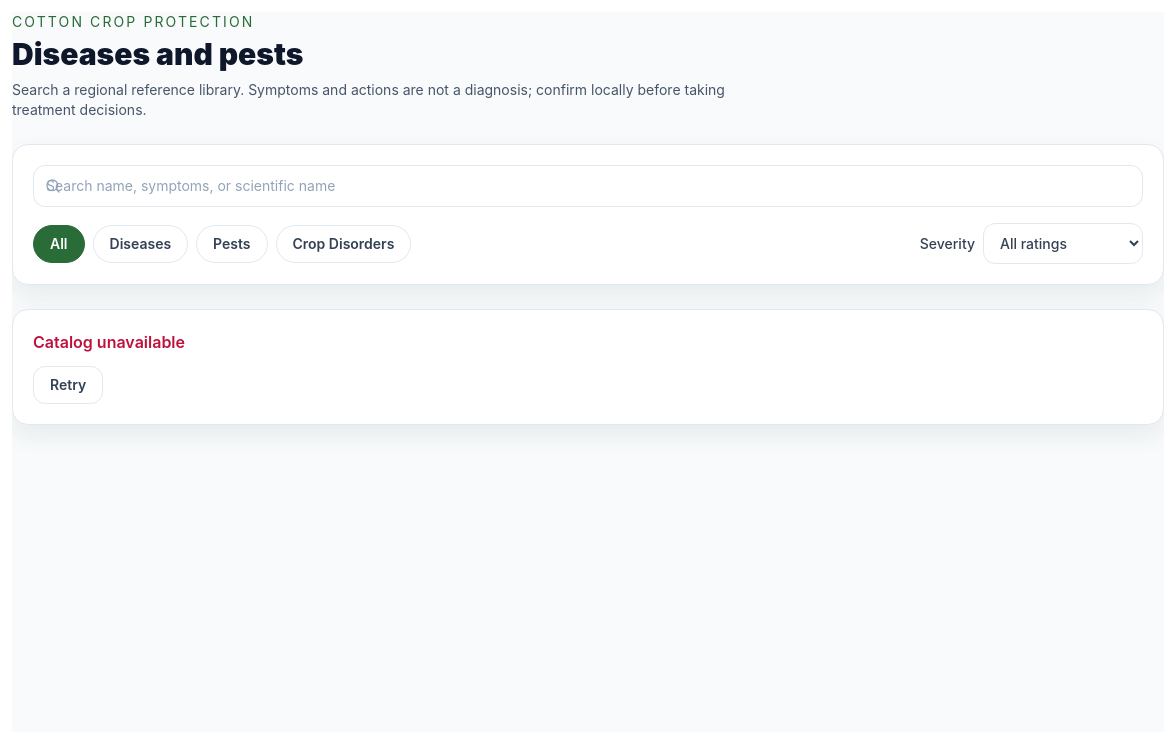
Scenario: CottonIssueGuide › shows an error state on API failure and recovers on retry
Check: the message shows "Catalog unavailable", box left=33, top=332, right=185, bottom=352
Step 1. Click the button "Retry" → (68, 385), box left=33, top=366, right=103, bottom=404
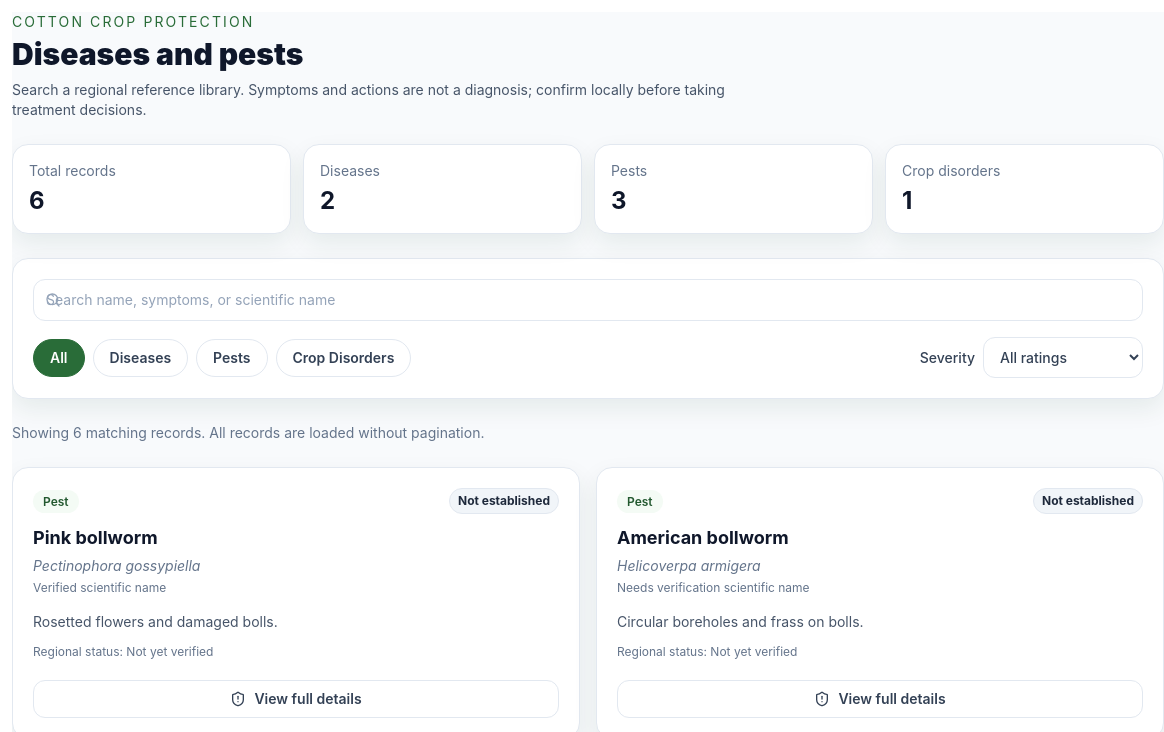
Check: the heading "Pink bollworm" is shown, box left=33, top=527, right=158, bottom=548
